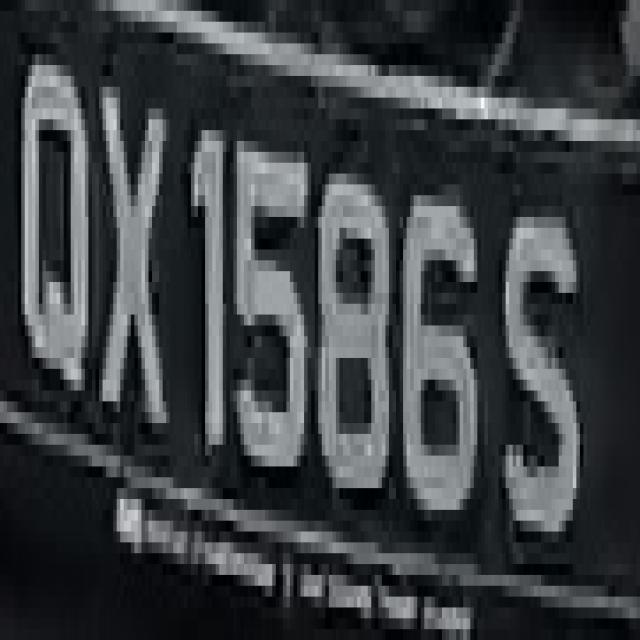1: (180, 76, 237, 477)
5: (230, 98, 308, 542)
6: (389, 141, 481, 564)
8: (315, 130, 389, 521)
Q: (14, 32, 96, 402)
S: (495, 206, 587, 553)
X: (92, 43, 177, 456)
